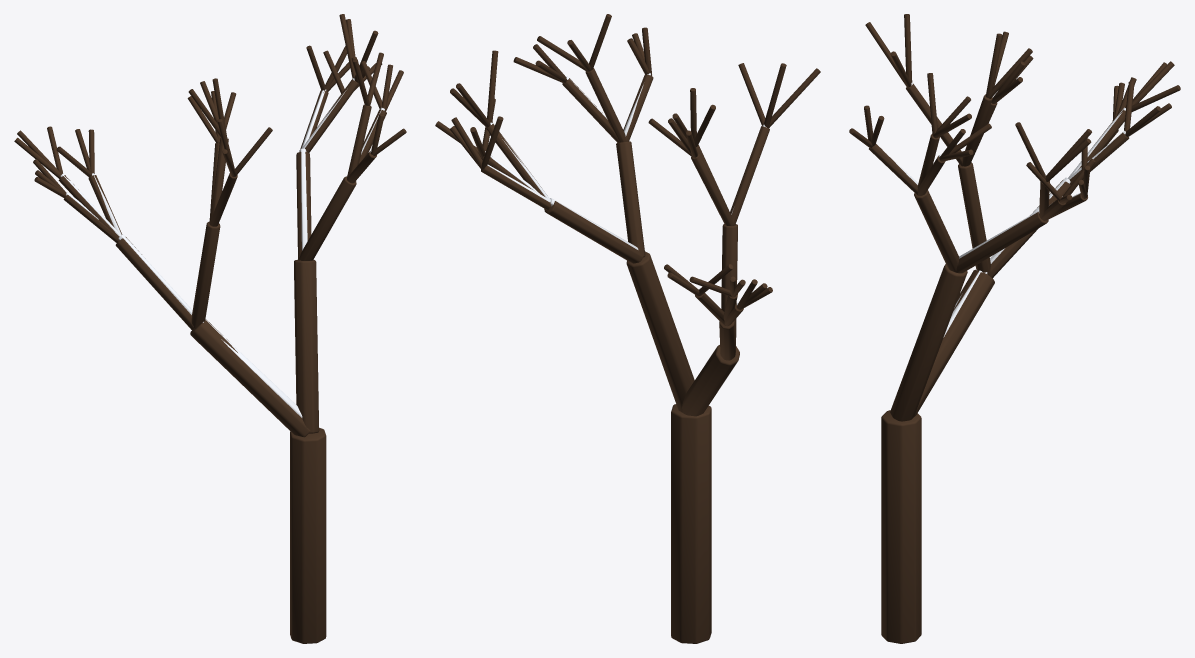
Rendered from tree_bare.glb.
3 renders of one model, left to right at view 1: azimuth 30°, elevation 25°; view 2: azimuth 150°, elevation 25°; view 3: azimuth 270°, elevation 25°, orthographic. The views are drawn at different scales.
Parts seen in each view (by area): view 1: tree_bare; view 2: tree_bare; view 3: tree_bare.
Boxes of the visible parts, bbox=[...] form: tree_bare: bbox=[14, 14, 406, 643]; tree_bare: bbox=[435, 14, 820, 643]; tree_bare: bbox=[849, 14, 1180, 643].
Bounding box in the file's own units: 4.32 × 7.04 × 3.55.
